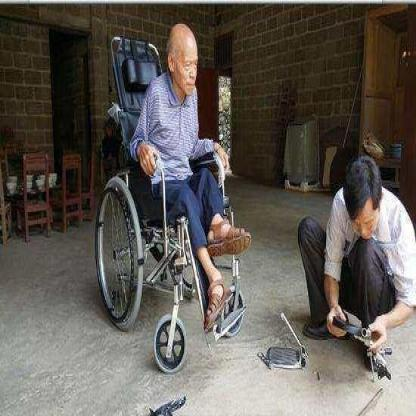wheelchair: (90, 20, 250, 360)
